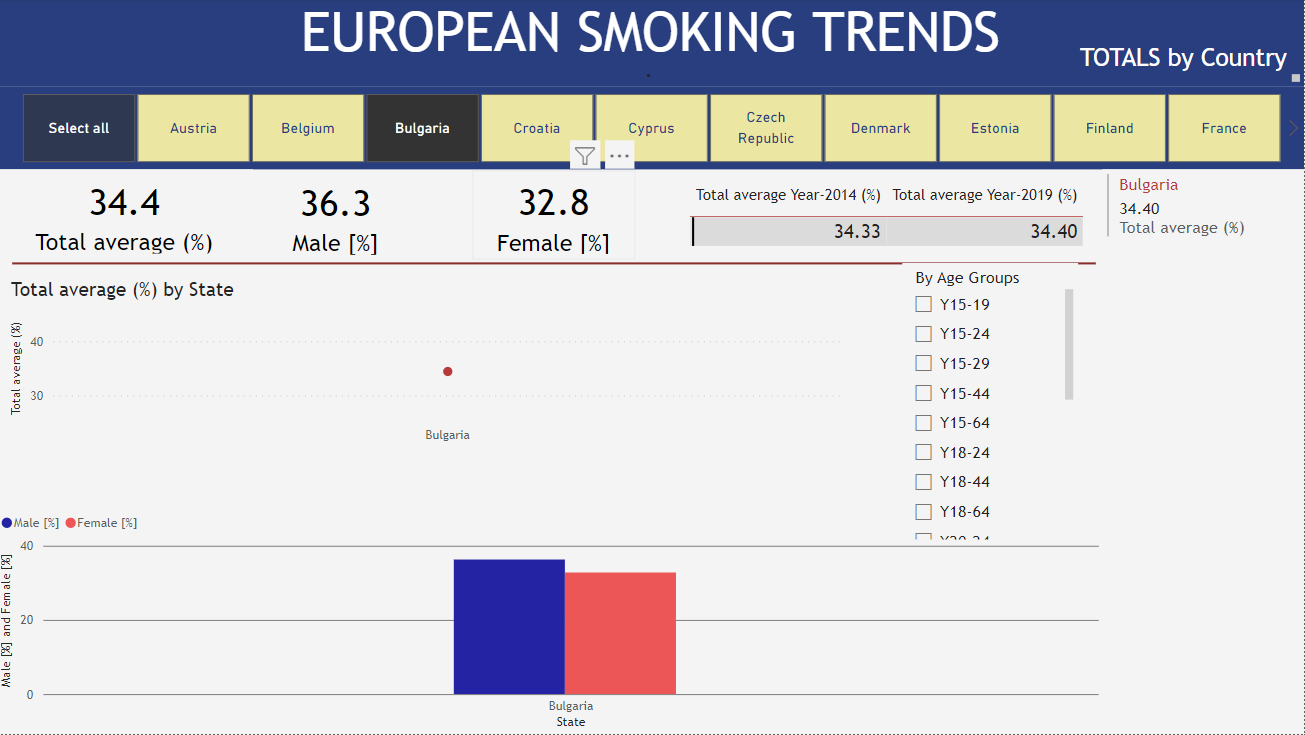

Layout of this report page (visuals, bound fields, positions):
{"tool":"powerbi","page":{"name":"Totals","canvas":[1280,720],"ordinal":0},"visuals":[{"type":"textbox","title":"EUROPEAN SMOKING TRENDS","box":[0,0,1280.4,86],"z":0},{"type":"slicer","fields":{"Values":["Location.State"]},"box":[0,86.4,1280.2,80.6],"z":1000},{"type":"card","fields":{"Values":["_Measures.Average % by Country"]},"box":[0,167.3,250.9,87.5],"z":2000},{"type":"multiRowCard","fields":{"Values":["Location.State","_Measures.Average % by Country"]},"box":[1081.4,167,198.7,553],"z":3000},{"type":"textbox","title":"TOTALS by Country","box":[1041,43.4,239.4,30.1],"z":4000},{"type":"lineChart","fields":{"Category":["Location.State"],"Y":["_Measures.Average % by Country"]},"box":[9.8,274,822.9,169.4],"z":5000},{"type":"shape","box":[16,239.4,1059.6,39.9],"z":6000},{"type":"clusteredColumnChart","title":"Smoking distribution by gender","fields":{"Category":["Location.State"],"Y":["_Measures.Male [%]","_Measures.Female [%]"]},"box":[0,494.1,1083.5,225.7],"z":7000},{"type":"card","fields":{"Values":["_Measures.Male [%]"]},"box":[251.2,168.4,163.4,87.8],"z":8000},{"type":"card","fields":{"Values":["_Measures.Female [%]"]},"box":[466,168.4,159.4,86.7],"z":9000},{"type":"tableEx","fields":{"Values":["_Measures.Total average Year-2014 (%)","_Measures.Total average Year-2019 (%)"]},"box":[672.8,175.5,402.5,79.7],"z":10000},{"type":"slicer","fields":{"Values":["1 - MainT.Age"]},"box":[886.2,259.2,172.4,275],"z":11000}]}

Visuals, with their boxes in screenshot pixels (x1, y1, x2, y2), scaled from the page's 1280x720 canvas onto the 1305x735 screenshot:
"EUROPEAN SMOKING TRENDS" textbox: 0/0/1304/88
slicer - Location.State: 0/88/1304/170
card - _Measures.Average % by Country: 0/171/256/260
multiRowCard - Location.State x _Measures.Average % by Country: 1103/170/1304/734
"TOTALS by Country" textbox: 1061/44/1304/75
lineChart - Location.State x _Measures.Average % by Country: 10/280/849/453
shape: 16/244/1097/285
"Smoking distribution by gender" clusteredColumnChart: 0/504/1105/734
card - _Measures.Male [%]: 256/172/423/262
card - _Measures.Female [%]: 475/172/638/260
tableEx - _Measures.Total average Year-2014 (%) x _Measures.Total average Year-2019 (%): 686/179/1096/261
slicer - 1 - MainT.Age: 904/265/1079/545
